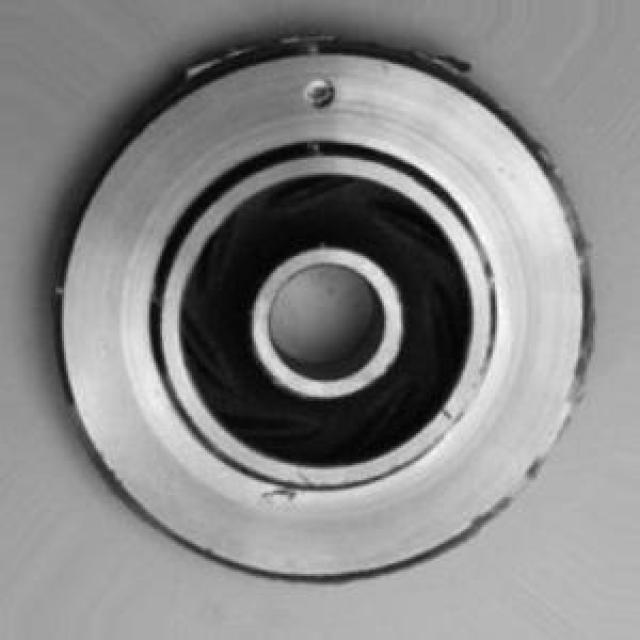Defect: (304, 79, 339, 111)
